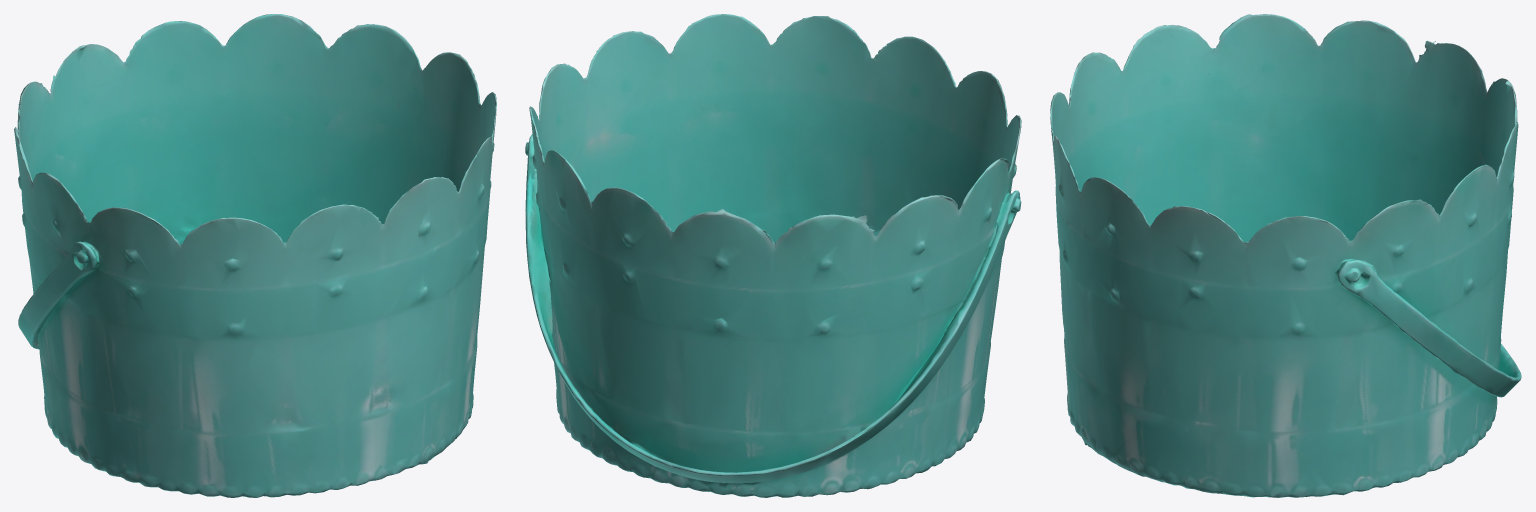
The model's file is Spritz_Easter_Basket_Plastic_Teal.glb.
3 views of the same model, side by side, from view 1: azimuth 30°, elevation 25°; view 2: azimuth 150°, elevation 25°; view 3: azimuth 270°, elevation 25° (orthographic).
Parts seen in each view (by area): view 1: Spritz_Easter_Basket_Plastic_Teal; view 2: Spritz_Easter_Basket_Plastic_Teal; view 3: Spritz_Easter_Basket_Plastic_Teal.
Part boxes in pixels (x1,y1,x2,y2): Spritz_Easter_Basket_Plastic_Teal: [14, 14, 496, 497]; Spritz_Easter_Basket_Plastic_Teal: [525, 14, 1021, 497]; Spritz_Easter_Basket_Plastic_Teal: [1050, 14, 1521, 497].
Size of the model in its own units: 0.1913 by 0.1289 by 0.1826.
Materials: 1 (1 with a texture image).
